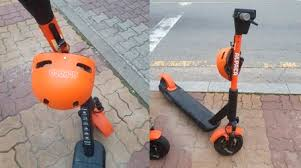kick_board: (158, 8, 258, 155)
kick_handler: (233, 8, 257, 34)
kick_neck: (221, 37, 242, 112)
kick_wheel: (212, 127, 242, 155)
